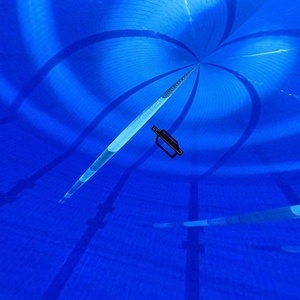submarine: (145, 123, 187, 164)
